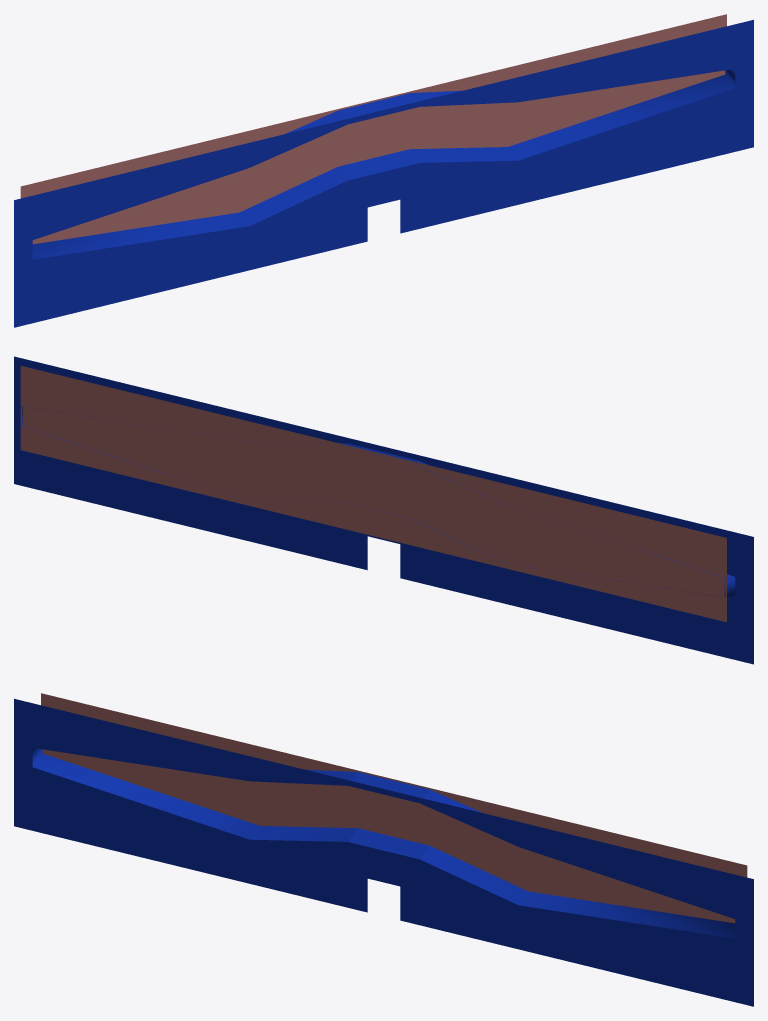
Rendered from Window Wall with door ctr 15 Height.FBX.
3 views of the same model, one above another, from view 1: azimuth 30°, elevation 25°; view 2: azimuth 150°, elevation 25°; view 3: azimuth 330°, elevation 25° (orthographic).
Parts seen in each view (by area): view 1: Box074; view 2: Box074; view 3: Box074.
Part boxes in pixels (x1,y1,x2,y2): Box074: (14, 14, 753, 327); Box074: (14, 356, 753, 664); Box074: (14, 693, 753, 1006).
Bounding box in the file's own units: 91.03 × 15.27 × 2.25.
